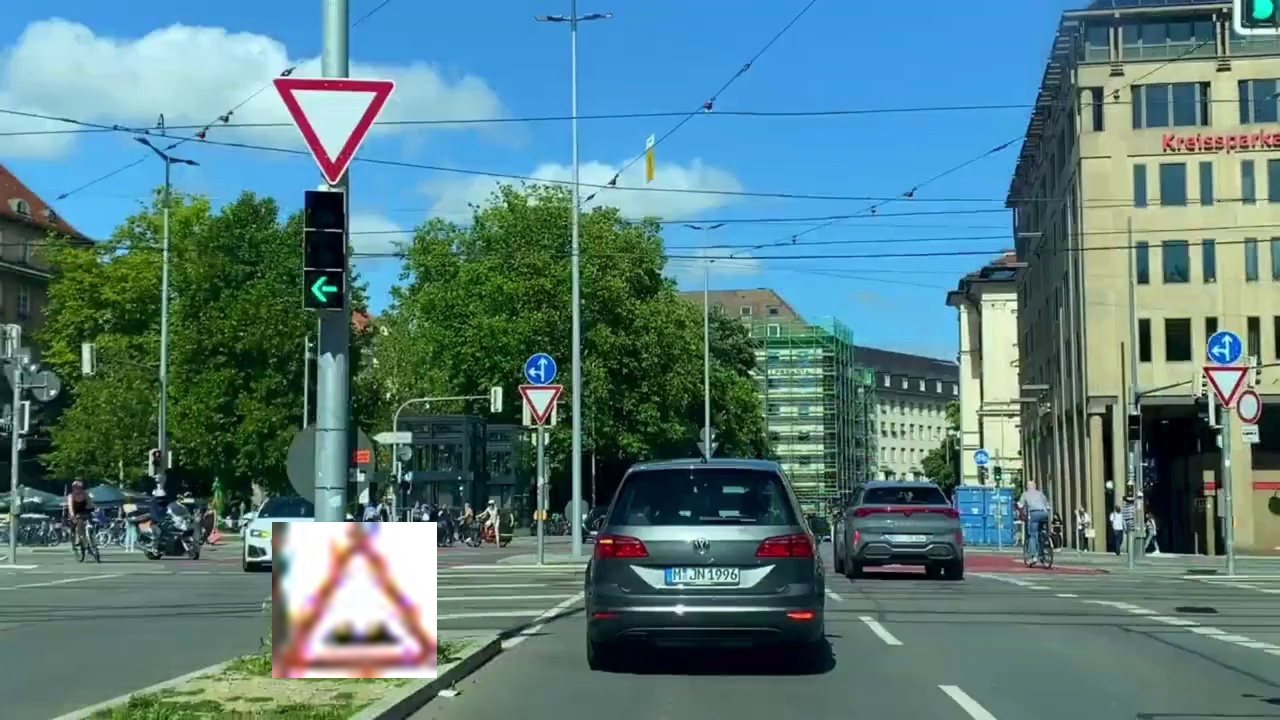Bumpy road: (272, 522, 437, 678)
